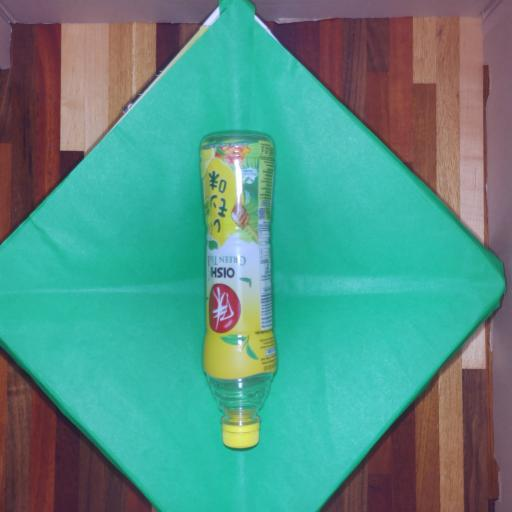bottle: (201, 133, 276, 448)
